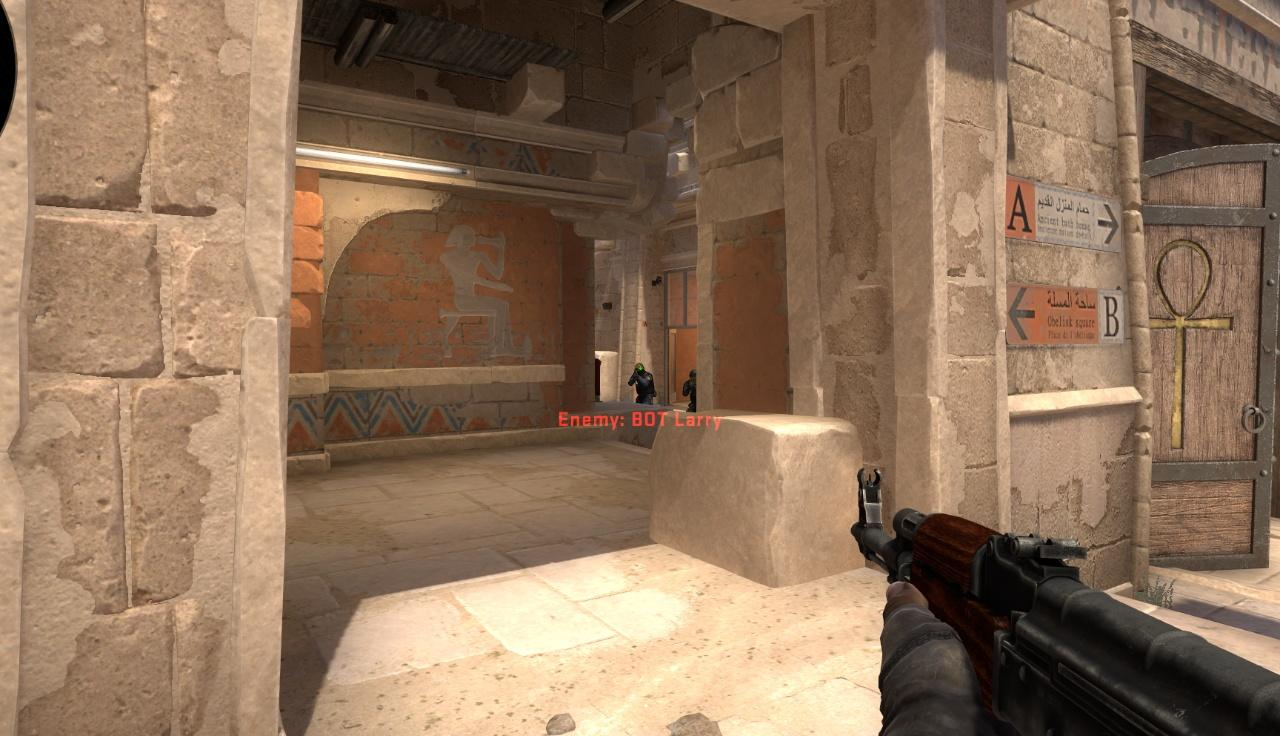ct: (632, 363, 654, 405), (686, 369, 696, 412)
cthead: (635, 363, 645, 374), (690, 370, 697, 384)
rifle: (848, 469, 1280, 736)
